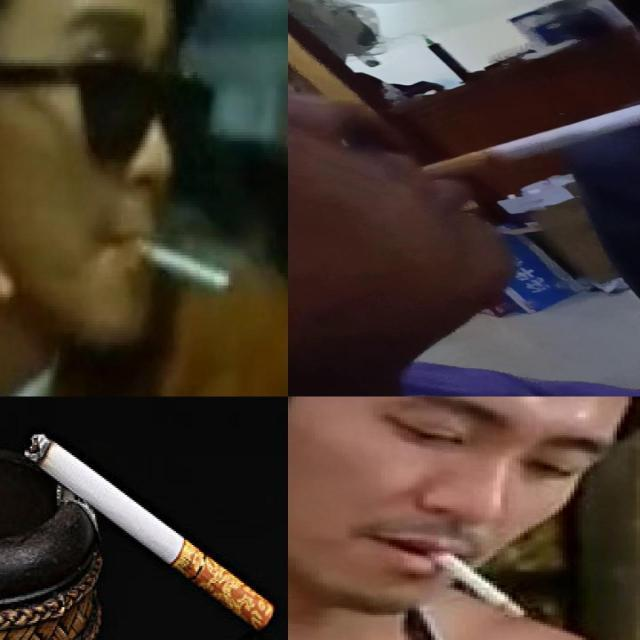smoking: (22, 433, 274, 631), (418, 95, 640, 181), (421, 543, 527, 619), (124, 232, 232, 294)
